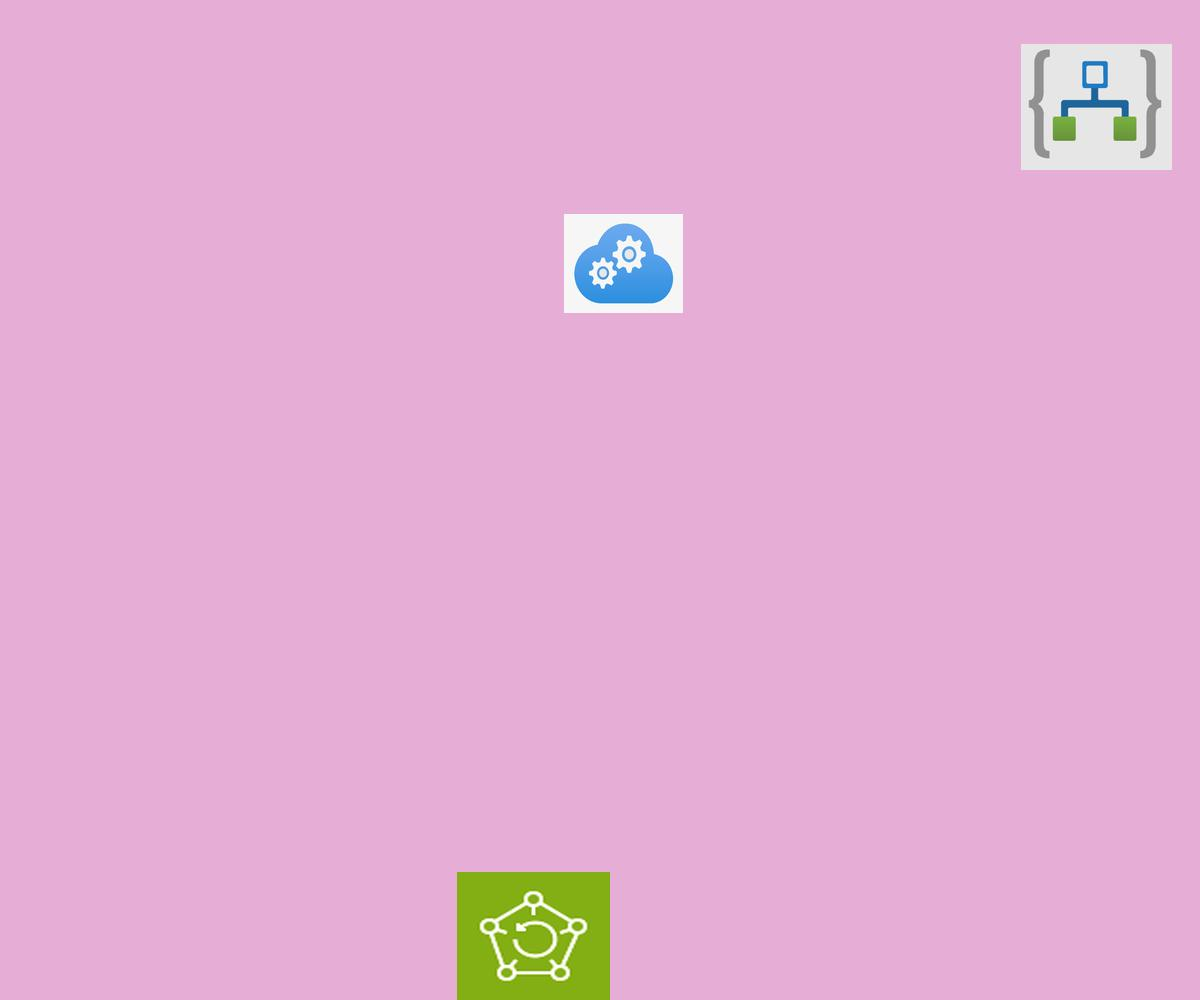AWS-Backup: (457, 872, 610, 1000)
Azure_cloud_services: (564, 214, 683, 313)
Azure_integration-204-Logic-Apps: (1021, 44, 1172, 170)
